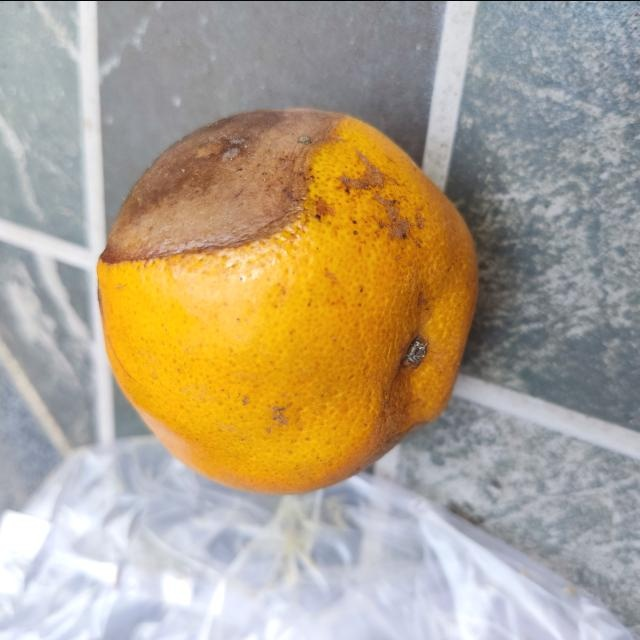agrume: (93, 105, 484, 497)
